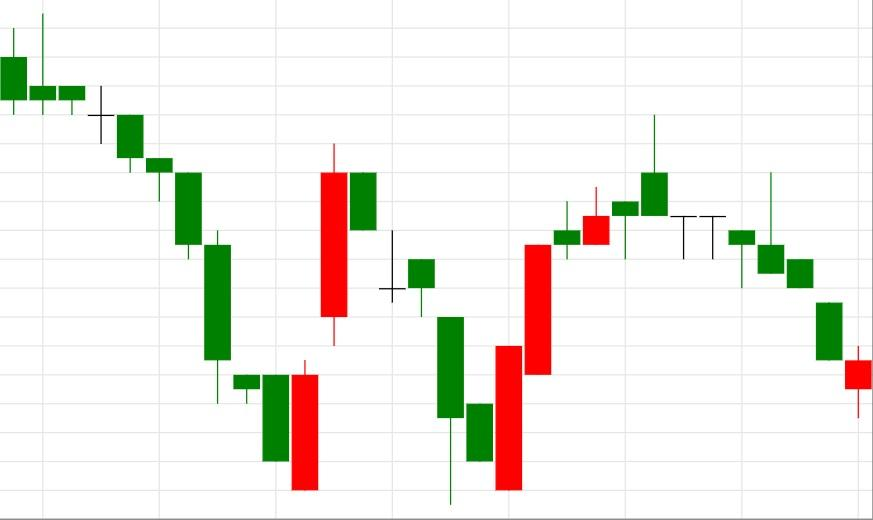bullish_engulfing_rise: (0, 12, 320, 492), (320, 141, 523, 506)
